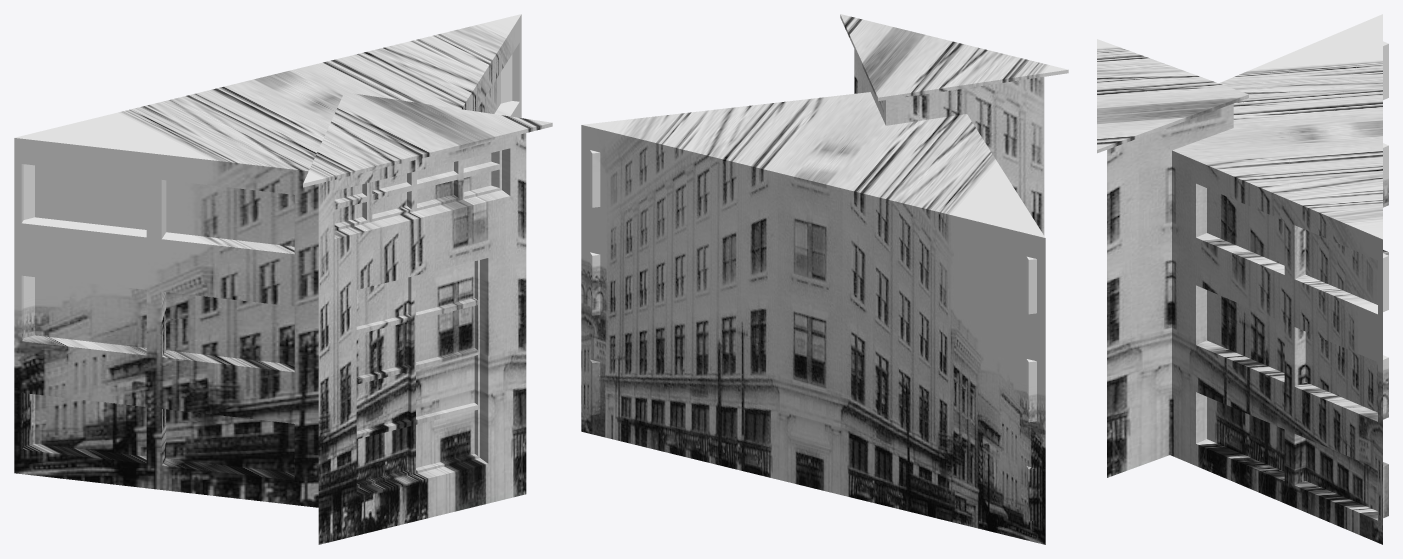
File: garage_boardman_replacement.fbx
3 renders of one model, left to right at view 1: azimuth 30°, elevation 25°; view 2: azimuth 150°, elevation 25°; view 3: azimuth 270°, elevation 25°, orthographic. The views are drawn at different scales.
Parts seen in each view (by area): view 1: garage; view 2: garage; view 3: garage.
Part boxes in pixels (x1,y1,x2,y2): garage: (14, 14, 552, 544); garage: (581, 14, 1068, 544); garage: (1097, 14, 1388, 544).
Bounding box in the file's own units: 317 × 222 × 173.
Materials: 1 (1 with a texture image).
